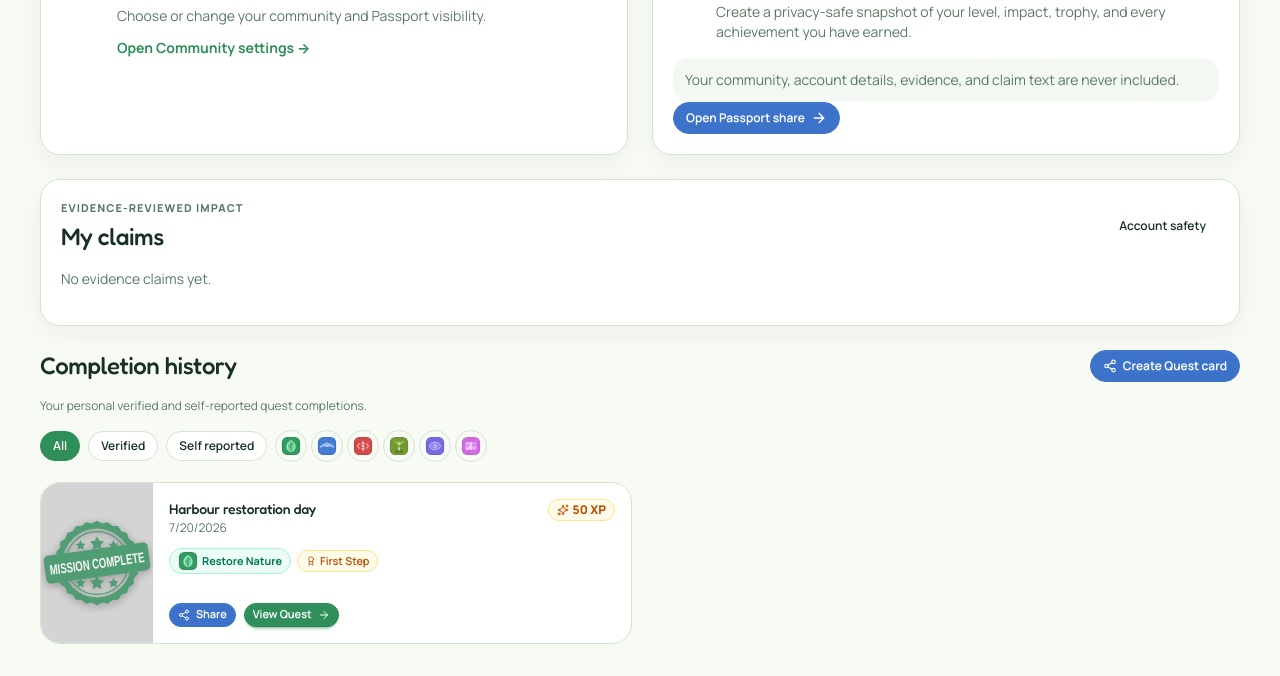
Test: PassportPage › filters against the complete Passport history rather than only the visible page
(page scrolled)
Expected: the heading "Harbour restoration day" is shown, top-left (169, 498), bottom-right (316, 518)
Click the button "Self reported": (217, 446) top-left (166, 430), bottom-right (267, 460)
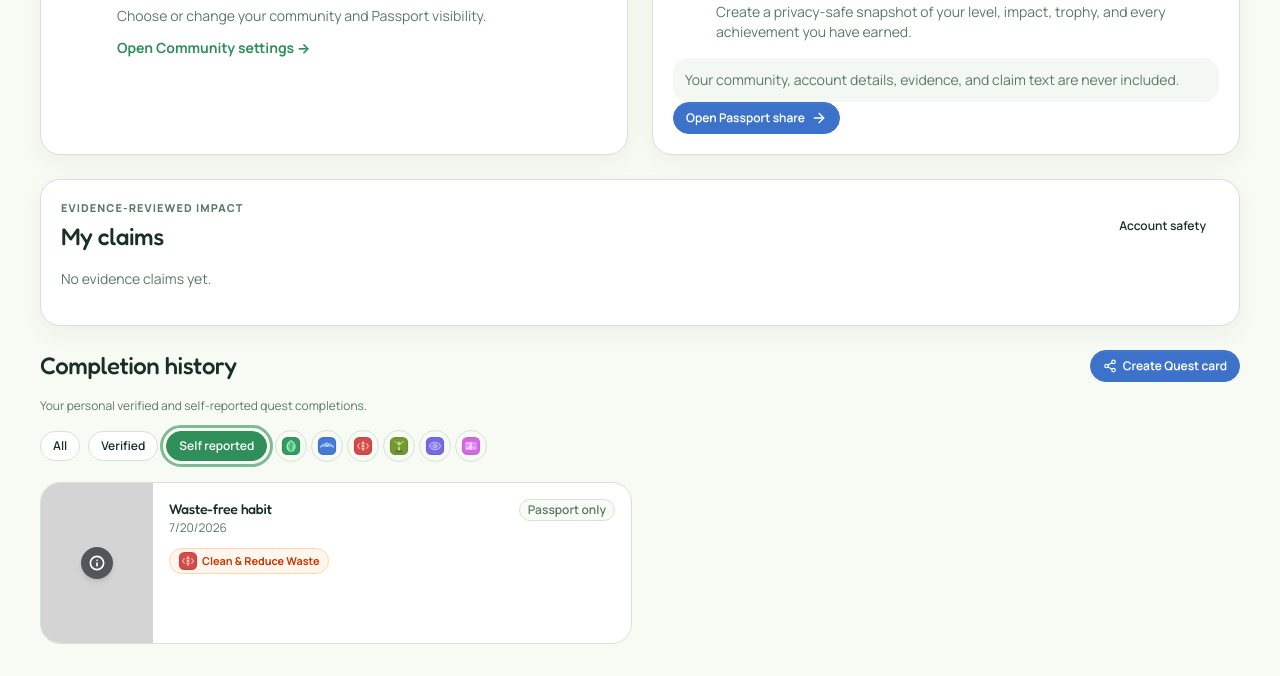
Expected: the heading "Waste-free habit" is shown, top-left (169, 498), bottom-right (272, 518)
Click the button named "Filter completion history by Restore Nature": (291, 446) top-left (275, 430), bottom-right (307, 462)
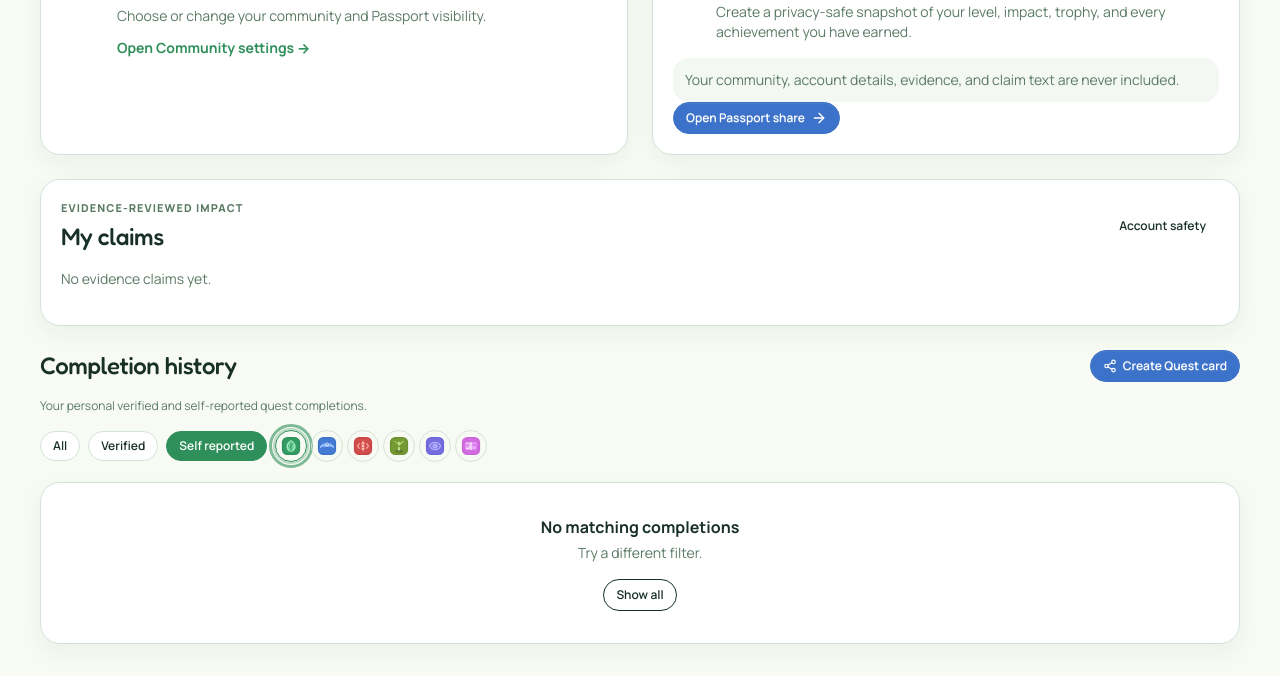
Expected: the text "No matching completions" is shown, top-left (541, 516), bottom-right (739, 538)
Click the button "Show all": (640, 594) top-left (603, 578), bottom-right (677, 610)
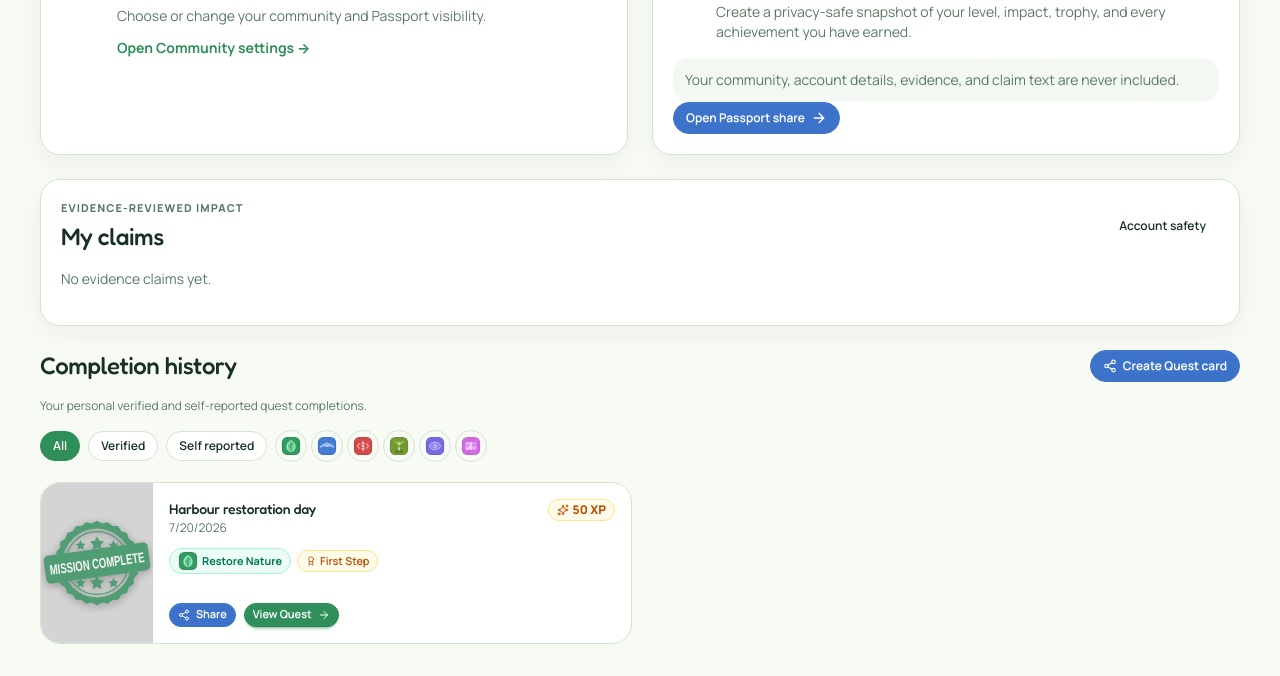
Expected: the heading "Harbour restoration day" is shown, top-left (169, 498), bottom-right (316, 518)
